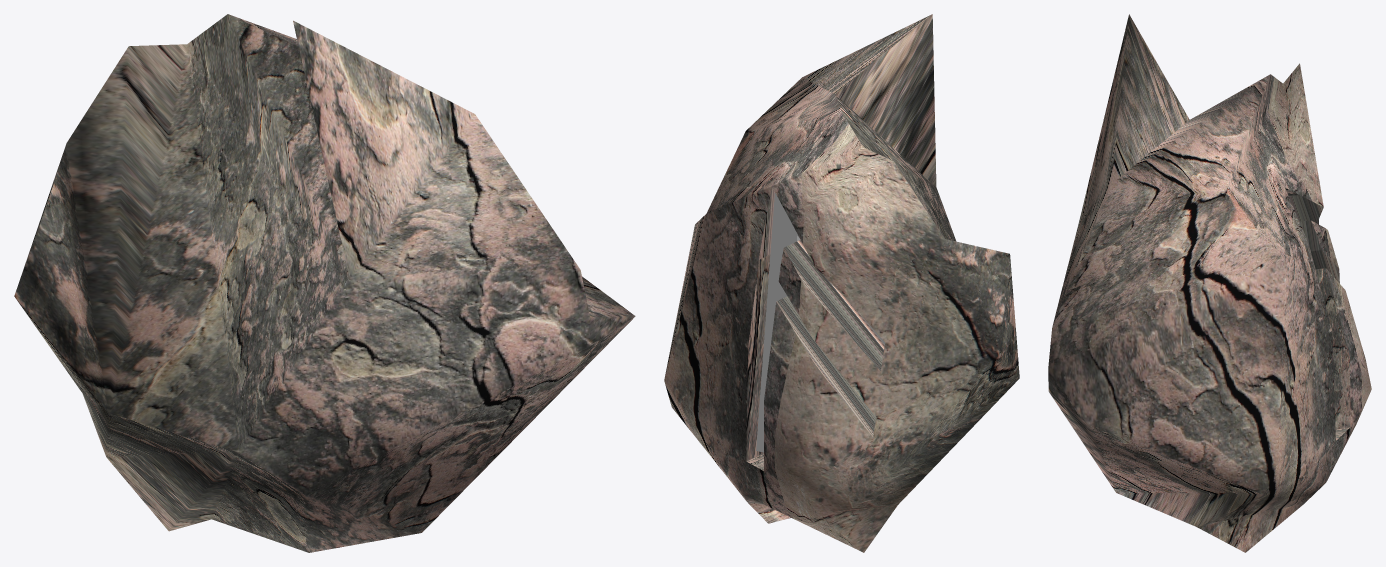
The model's file is Rune.obj.
3 renders of one model, left to right at view 1: azimuth 30°, elevation 25°; view 2: azimuth 150°, elevation 25°; view 3: azimuth 270°, elevation 25°, orthographic. The views are drawn at different scales.
Visible parts, largest first — view 1: pPlatonic2; view 2: pPlatonic2, pCube2; view 3: pPlatonic2.
Boxes of the visible parts, x1,y1,x2,y2 form: pPlatonic2: (14, 14, 635, 552); pPlatonic2: (664, 14, 1019, 552); pCube2: (756, 193, 884, 452); pPlatonic2: (1048, 14, 1371, 552).
Bounding box in the file's own units: 3.46 × 4.03 × 2.42.
